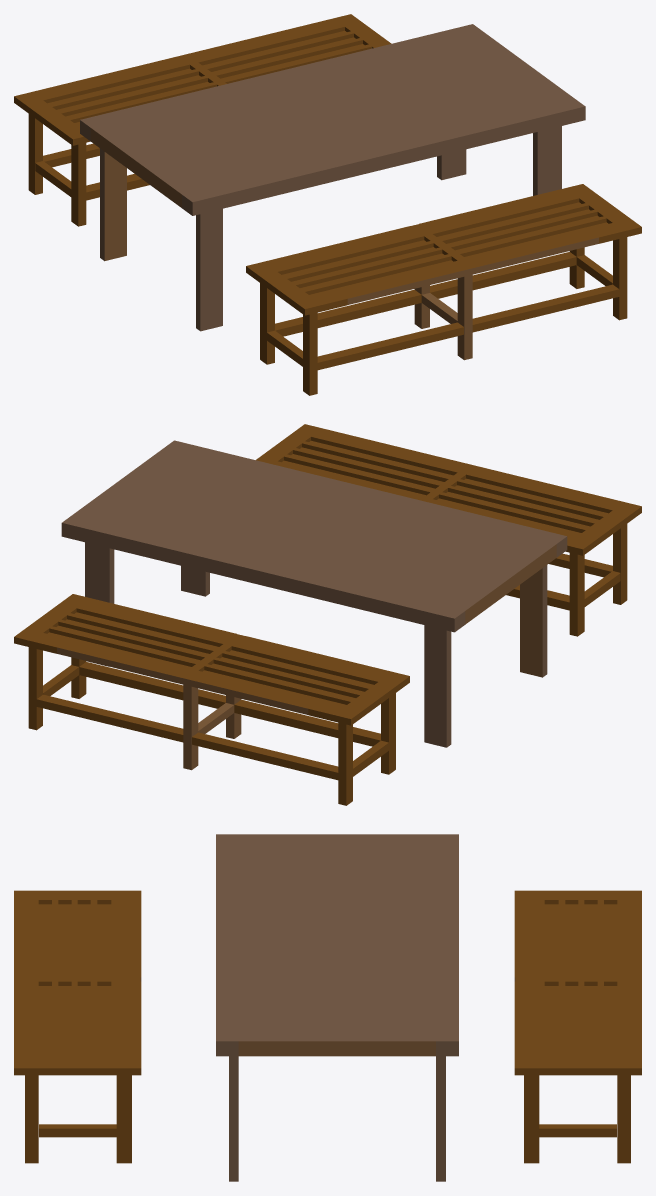
File: Meja dan Kursi kantin.fbx
3 views of the same model, one above another, from view 1: azimuth 30°, elevation 25°; view 2: azimuth 150°, elevation 25°; view 3: azimuth 270°, elevation 25° (orthographic). The views are drawn at different scales.
Parts seen in each view (by area): view 1: Cube; view 2: Cube; view 3: Cube.
Part boxes in pixels (x1=…): Cube: x1=14, y1=14, x2=641, y2=395; Cube: x1=14, y1=424, x2=641, y2=805; Cube: x1=14, y1=834, x2=641, y2=1181.
Size of the model in its own units: 915 by 308 by 1172.
Materials: 1 (1 with a texture image).
